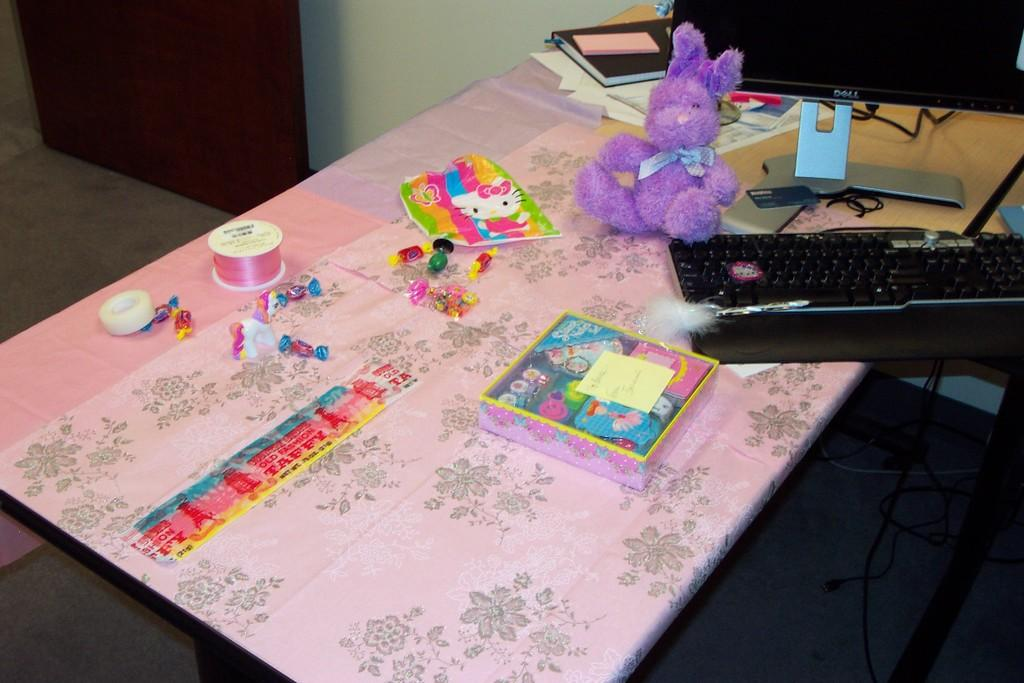Computer-keyboard: (666, 227, 1022, 362)
